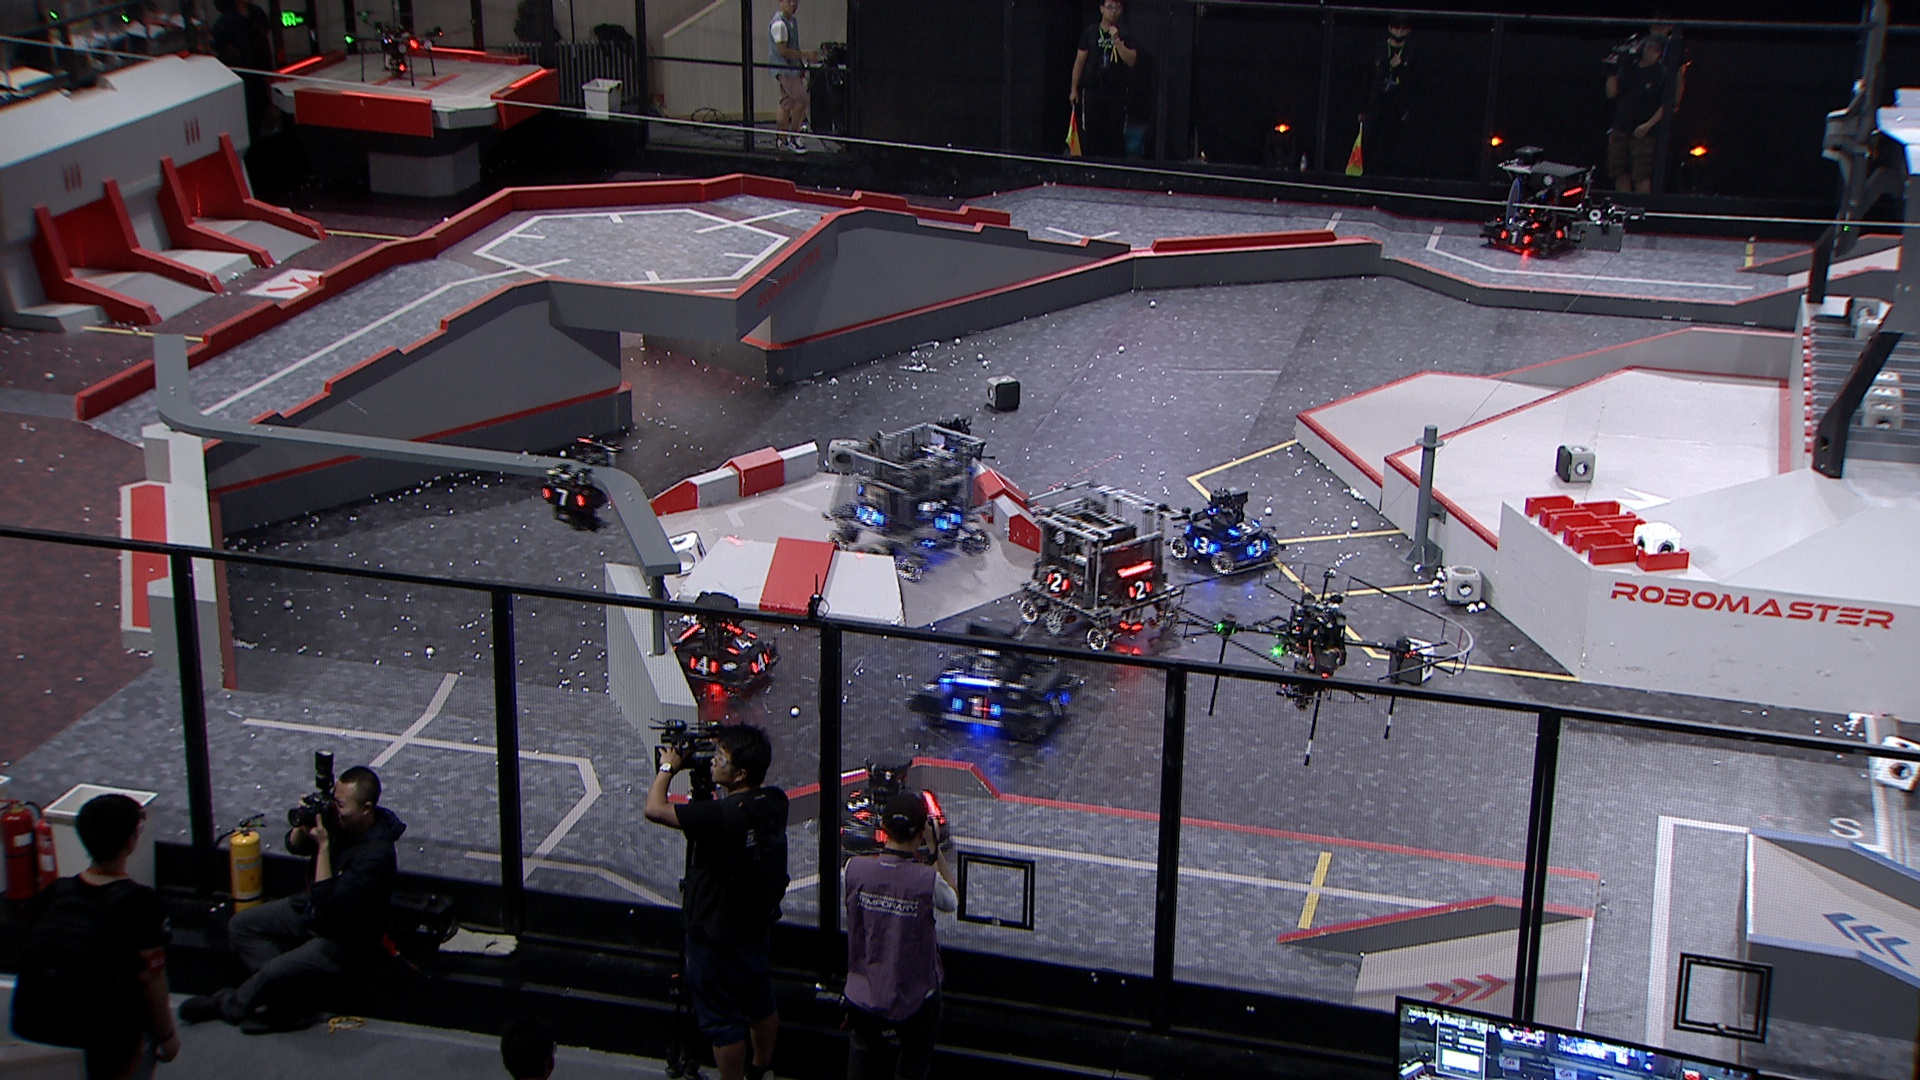armor: (538, 485, 588, 509), (951, 695, 1002, 717), (1040, 690, 1072, 723), (844, 785, 873, 818), (727, 628, 760, 655), (852, 501, 885, 526), (938, 659, 967, 684), (1226, 516, 1261, 537), (1043, 570, 1073, 593), (934, 510, 963, 533), (688, 654, 717, 676), (1125, 580, 1154, 603), (746, 650, 770, 676), (1499, 229, 1534, 247), (1244, 535, 1269, 556), (1506, 215, 1539, 229), (1193, 535, 1216, 555), (1552, 223, 1575, 240)
car: (1015, 481, 1182, 650), (822, 419, 993, 580), (913, 616, 1091, 745), (827, 746, 953, 861), (1480, 142, 1596, 255), (665, 591, 782, 698), (1172, 485, 1287, 575)
watcher: (535, 436, 622, 533)
